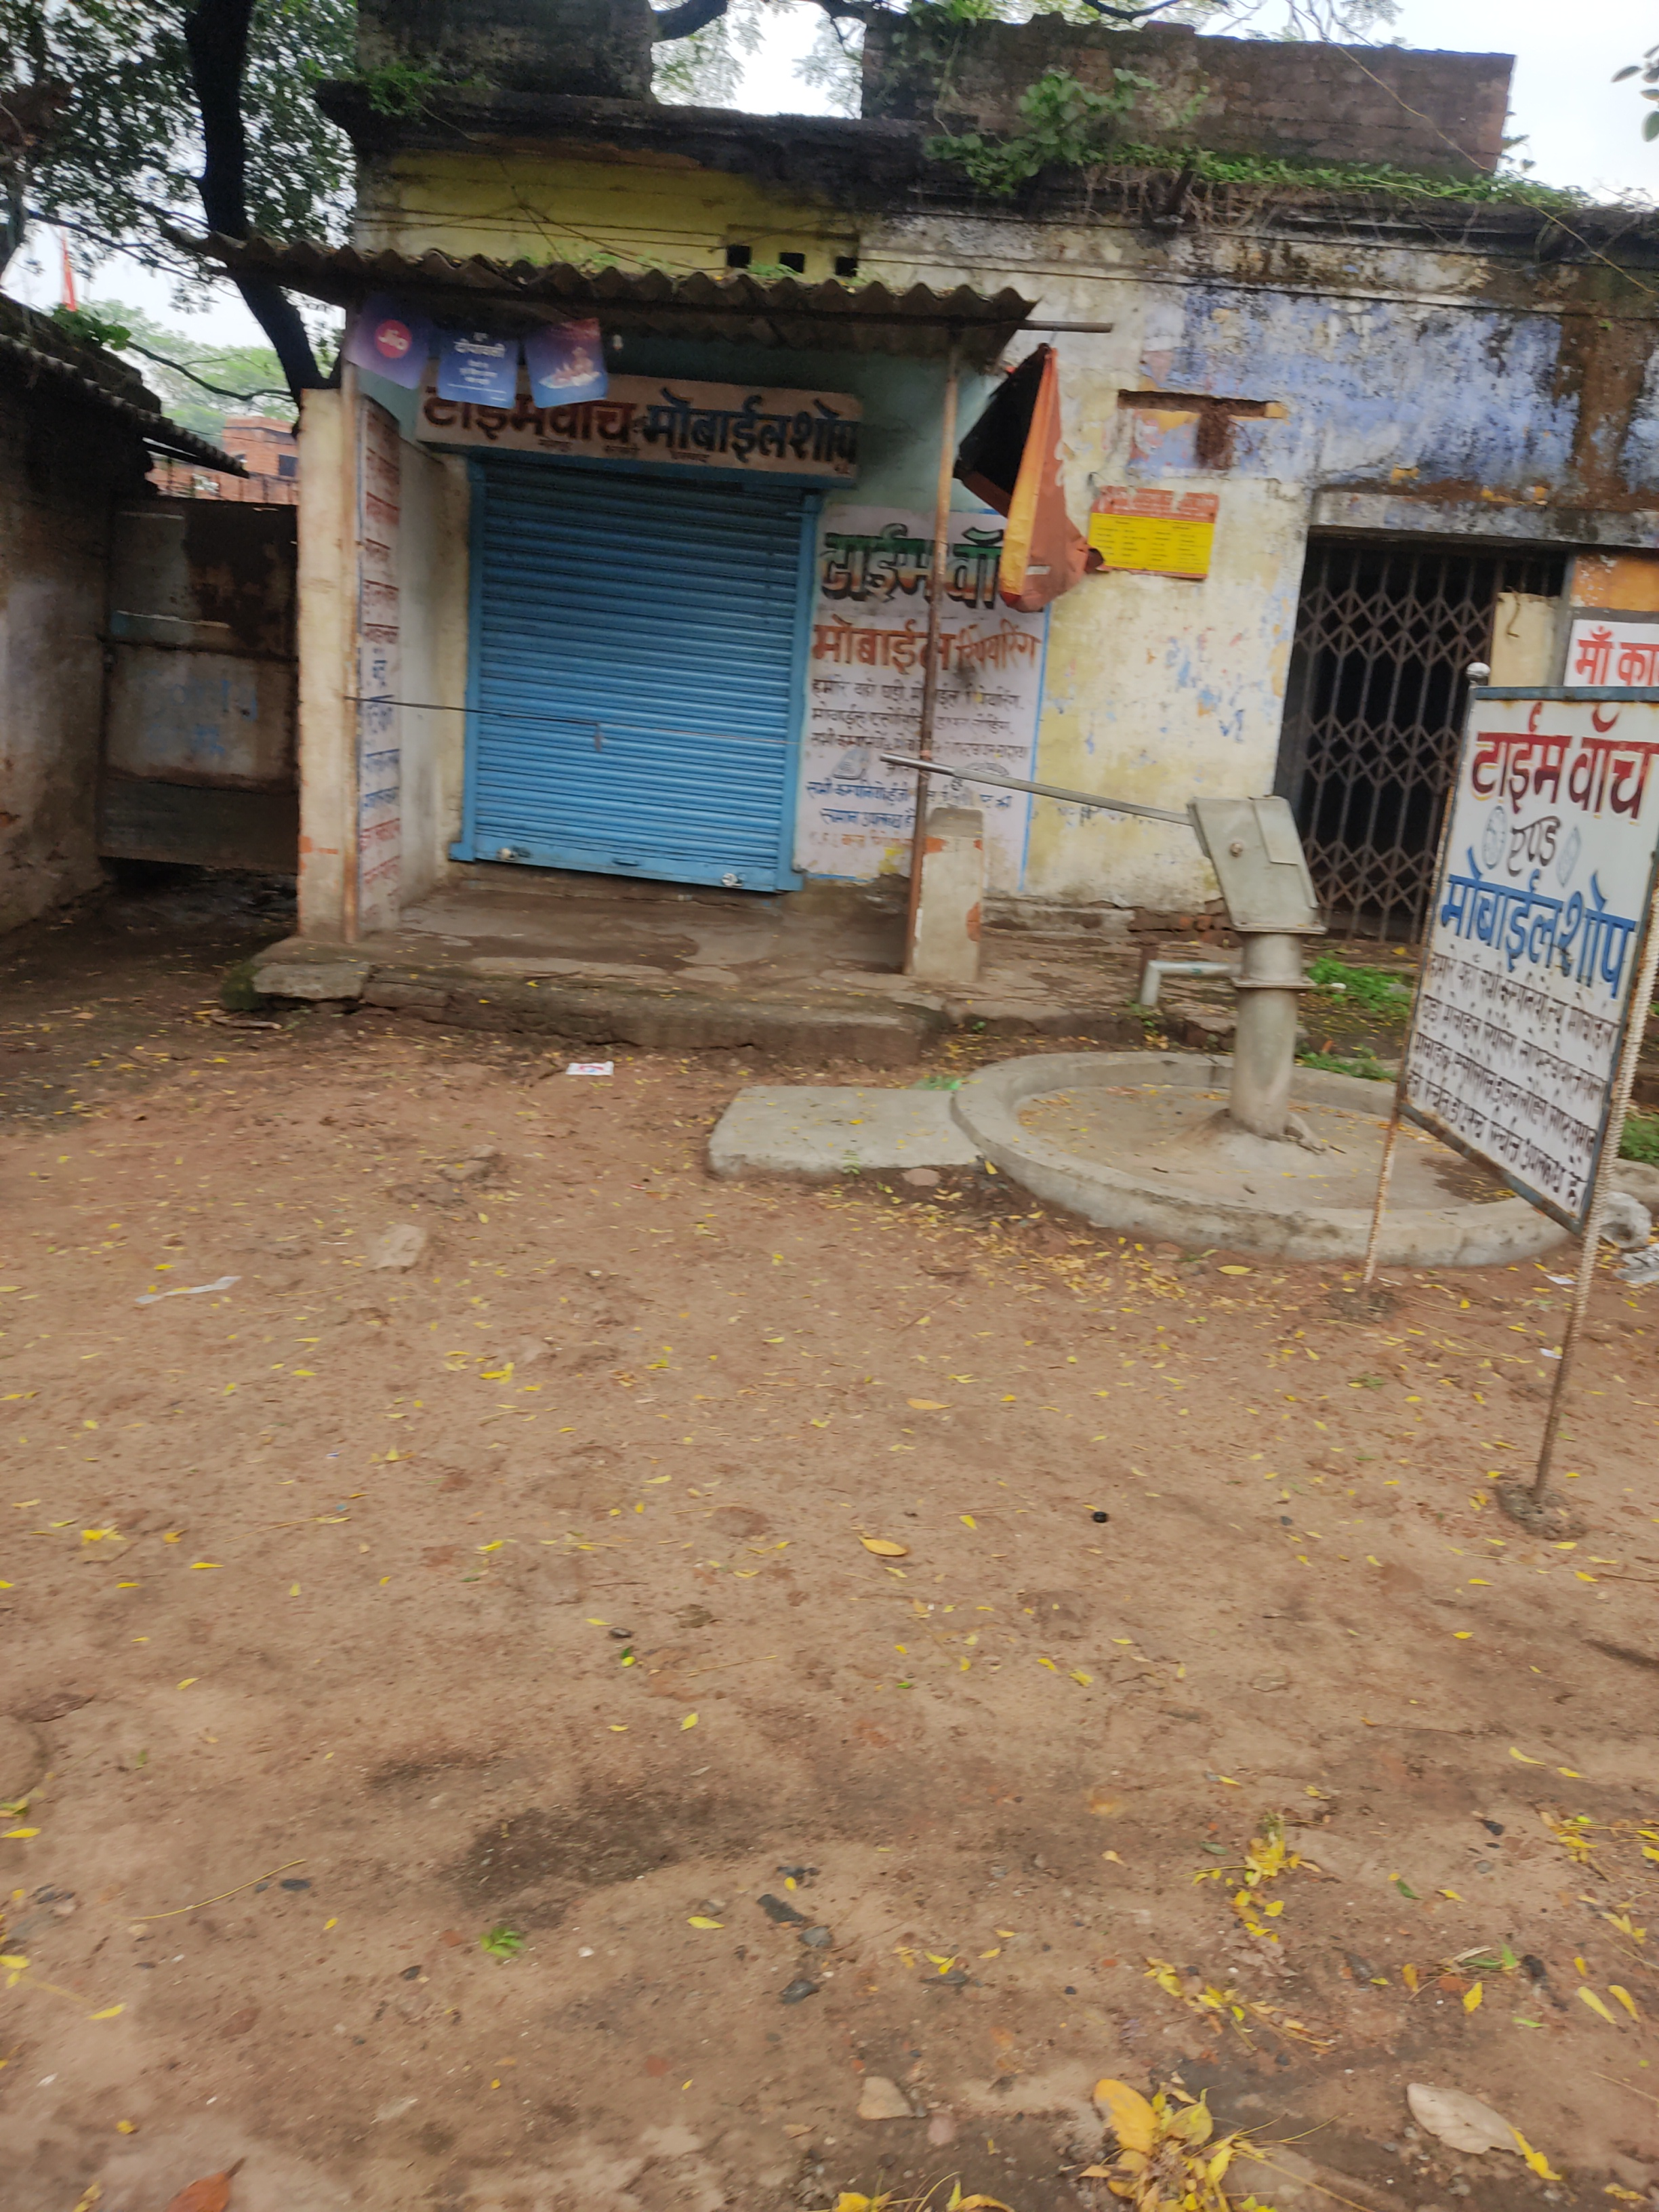text: (1396, 685, 1659, 1240), (791, 486, 1040, 900), (413, 338, 871, 479), (1551, 610, 1659, 691)
